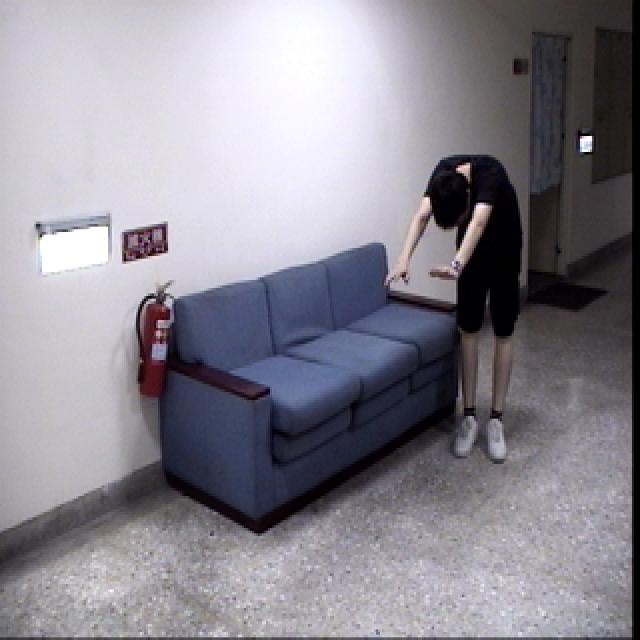bend: (376, 147, 531, 472)
